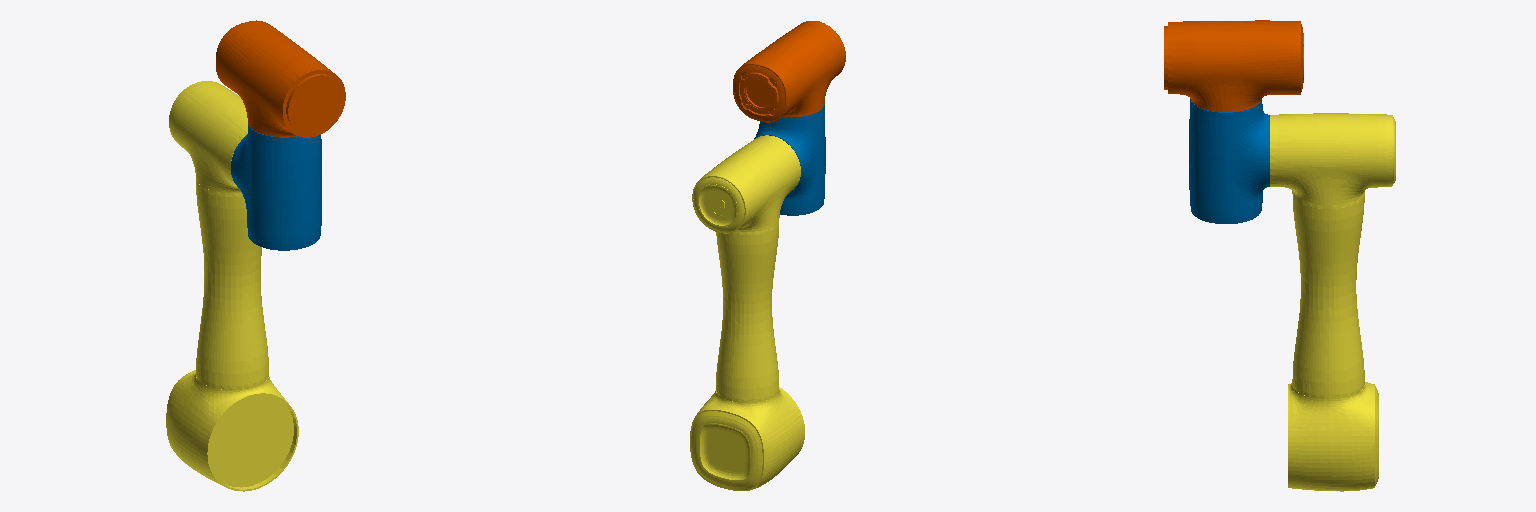
URDF robot description (DobotCR5):
<?xml version="1.0" ?>
<!-- =================================================================================== -->
<!-- |    This document was autogenerated by xacro from robot.xacro                    | -->
<!-- |    EDITING THIS FILE BY HAND IS NOT RECOMMENDED                                 | -->
<!-- =================================================================================== -->
<robot name="DobotCR5">
  <link name="base_link">
    <inertial>
      <origin xyz="-8.0961E-06 0.0019103 0.028995"/>
      <mass value="0.90882"/>
      <inertia ixx="0.0014545" ixy="4.2968E-08" ixz="-1.8199E-07" iyy="0.001345" iyz="-6.243E-06" izz="0.002155"/>
    </inertial>
    <visual>
      <geometry>
        <mesh filename="package://cr5_description/meshes/visual/base_link.obj"/>
      </geometry>
    </visual>
    <collision>
      <origin xyz="0 0 0.05"/>
      <geometry>
        <cylinder length="0.1" radius="0.1"/>
      </geometry>
    </collision>
    <collision>
      <geometry>
        <box size="1.5 1.5 0.05"/>
      </geometry>
    </collision>
  </link>
  <link name="Link1">
    <inertial>
      <origin xyz="-8.7268E-07 -0.0032576 -0.0076748"/>
      <mass value="1.6123"/>
      <inertia ixx="0.0029122" ixy="5.7387E-09" ixz="1.9945E-08" iyy="0.0028191" iyz="0.00044094" izz="0.0032836"/>
    </inertial>
    <visual>
      <geometry>
        <mesh filename="package://cr5_description/meshes/visual/Link1.obj"/>
      </geometry>
    </visual>
    <collision>
      <geometry>
        <cylinder length="0.17" radius="0.08"/>
      </geometry>
    </collision>
  </link>
  <joint name="joint1" type="revolute">
    <origin xyz="0 0 0.147"/>
    <parent link="base_link"/>
    <child link="Link1"/>
    <axis xyz="0 0 1"/>
    <limit effort="300" lower="-6.28318" upper="6.28318" velocity="3.14159"/>
  </joint>
  <link name="Link2">
    <inertial>
      <origin xyz="-0.21351 -1.3842E-06 0.14252"/>
      <mass value="5.5186"/>
      <inertia ixx="0.0085919" ixy="7.5552E-07" ixz="-7.8922E-07" iyy="0.027553" iyz="1.4629E-07" izz="0.028294"/>
    </inertial>
    <visual>
      <geometry>
        <mesh filename="package://cr5_description/meshes/visual/Link2.obj"/>
      </geometry>
    </visual>
    <collision>
      <origin rpy="0 0 0" xyz="0 0 0.145"/>
      <geometry>
        <cylinder length="0.18" radius="0.07"/>
      </geometry>
    </collision>
    <collision>
      <origin rpy="0 1.5708 0" xyz="-0.2 0 0.15"/>
      <geometry>
        <cylinder length="0.43" radius="0.065"/>
      </geometry>
    </collision>
    <collision>
      <origin xyz="-0.43 0 0.145"/>
      <geometry>
        <cylinder length="0.18" radius="0.07"/>
      </geometry>
    </collision>
  </link>
  <joint name="joint2" type="revolute">
    <origin rpy="1.5708 1.5708 0"/>
    <parent link="Link1"/>
    <child link="Link2"/>
    <axis xyz="0 0 1"/>
    <limit effort="300" lower="-6.28318" upper="6.28318" velocity="3.14159"/>
  </joint>
  <link name="Link3">
    <inertial>
      <origin xyz="-0.15231 -1.4079E-07 0.022693"/>
      <mass value="2.8536"/>
      <inertia ixx="0.0032608" ixy="-3.2147E-10" ixz="0.00012363" iyy="0.0092967" iyz="2.9478E-10" izz="0.0095552"/>
    </inertial>
    <visual>
      <geometry>
        <mesh filename="package://cr5_description/meshes/visual/Link3.obj"/>
      </geometry>
    </visual>
    <collision>
      <origin xyz="0 0 0.02"/>
      <geometry>
        <cylinder length="0.15" radius="0.07"/>
      </geometry>
    </collision>
    <collision>
      <origin rpy="0 1.5708 0" xyz="-0.2 0 0.03"/>
      <geometry>
        <cylinder length="0.26" radius="0.05"/>
      </geometry>
    </collision>
    <collision>
      <origin xyz="-0.355 0 0.02"/>
      <geometry>
        <cylinder length="0.15" radius="0.05"/>
      </geometry>
    </collision>
  </link>
  <joint name="joint3" type="revolute">
    <origin xyz="-0.427 0 0"/>
    <parent link="Link2"/>
    <child link="Link3"/>
    <axis xyz="0 0 1"/>
    <limit effort="300" lower="-2.7925" upper="2.7925" velocity="3.14159"/>
  </joint>
  <link name="Link4">
    <inertial>
      <origin xyz="-3.2386E-07 -0.002077 -0.0015548"/>
      <mass value="0.67058"/>
      <inertia ixx="0.00066939" ixy="4.1975E-10" ixz="-1.0734E-08" iyy="0.00065424" iyz="0.00011081" izz="0.00065365"/>
    </inertial>
    <visual>
      <geometry>
        <mesh filename="package://cr5_description/meshes/visual/Link4.obj"/>
      </geometry>
    </visual>
    <collision>
      <origin rpy="1.5708 0 0"/>
      <geometry>
        <cylinder length="0.155" radius="0.055"/>
      </geometry>
    </collision>
  </link>
  <joint name="joint4" type="revolute">
    <origin rpy="0 0 -1.5708" xyz="-0.357 0 0.141"/>
    <parent link="Link3"/>
    <child link="Link4"/>
    <axis xyz="0 0 1"/>
    <limit effort="300" lower="-6.28318" upper="6.28318" velocity="3.14159"/>
  </joint>
  <link name="Link5">
    <inertial>
      <origin xyz="-3.7738E-07 -0.0045777 -0.0012971"/>
      <mass value="0.7269"/>
      <inertia ixx="0.00073069" ixy="-5.7806E-09" ixz="6.7132E-09" iyy="0.00071195" iyz="-0.00011926" izz="0.00071391"/>
    </inertial>
    <visual>
      <geometry>
        <mesh filename="package://cr5_description/meshes/visual/Link5.obj"/>
      </geometry>
    </visual>
    <collision>
      <origin rpy="1.5708 0 0"/>
      <geometry>
        <cylinder length="0.18" radius="0.055"/>
      </geometry>
    </collision>
  </link>
  <joint name="joint5" type="revolute">
    <origin rpy="1.5708 0 0" xyz="0 -0.116 0"/>
    <parent link="Link4"/>
    <child link="Link5"/>
    <axis xyz="0 0 1"/>
    <limit effort="300" lower="-6.28318" upper="6.28318" velocity="3.14159"/>
  </joint>
  <link name="Link6">
    <inertial>
      <origin xyz="5.0777E-11 9.3774E-05 -0.019285"/>
      <mass value="0.15789"/>
      <inertia ixx="7.8045E-05" ixy="6.1582E-15" ixz="6.2471E-14" iyy="7.9168E-05" iyz="-1.3822E-07" izz="0.00012951"/>
    </inertial>
    <visual>
      <geometry>
        <mesh filename="package://cr5_description/meshes/visual/Link6.obj"/>
      </geometry>
    </visual>
    <collision>
      <origin xyz="0 0 0.1"/>
      <geometry>
        <box size="0.05 0.15 0.2"/>
      </geometry>
    </collision>
  </link>
  <joint name="joint6" type="revolute">
    <origin rpy="-1.5708 0 0" xyz="0 0.105 0"/>
    <parent link="Link5"/>
    <child link="Link6"/>
    <axis xyz="0 0 1"/>
    <limit effort="300" lower="-6.28318" upper="6.28318" velocity="3.14159"/>
  </joint>
</robot>

--- Facts derived from the render (not from the file) ---
Views: 3 orthographic renders of the robot side by side, from view 1: azimuth 30°, elevation 25°; view 2: azimuth 150°, elevation 25°; view 3: azimuth 270°, elevation 25°.
Robot: DobotCR5 — 7 links, 6 joints (6 revolute); root link base_link; default pose: all joints at 0.
Visible links, largest first — view 1: Link3, Link5, Link4; view 2: Link3, Link5, Link4; view 3: Link3, Link5, Link4.
Boxes of the visible links, x1,y1,x2,y2 form: Link3: (166, 81, 298, 491); Link5: (216, 20, 345, 137); Link4: (231, 125, 321, 250); Link3: (690, 135, 804, 490); Link5: (733, 21, 845, 122); Link4: (754, 104, 825, 215); Link3: (1270, 113, 1395, 491); Link5: (1164, 20, 1303, 111); Link4: (1189, 99, 1269, 223).
Bounding box of the posed robot: 0.1228 × 0.2633 × 0.5768 m (x, y, z).
3 mesh visuals loaded from 7 distinct referenced files (3 OBJ); not drawn: 4 (reference not matched to a file when rendering).